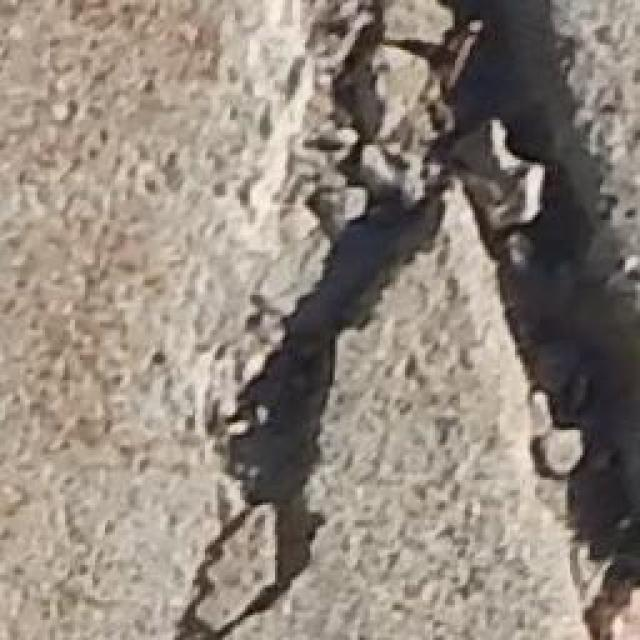concrete-crack: (164, 0, 640, 640)
